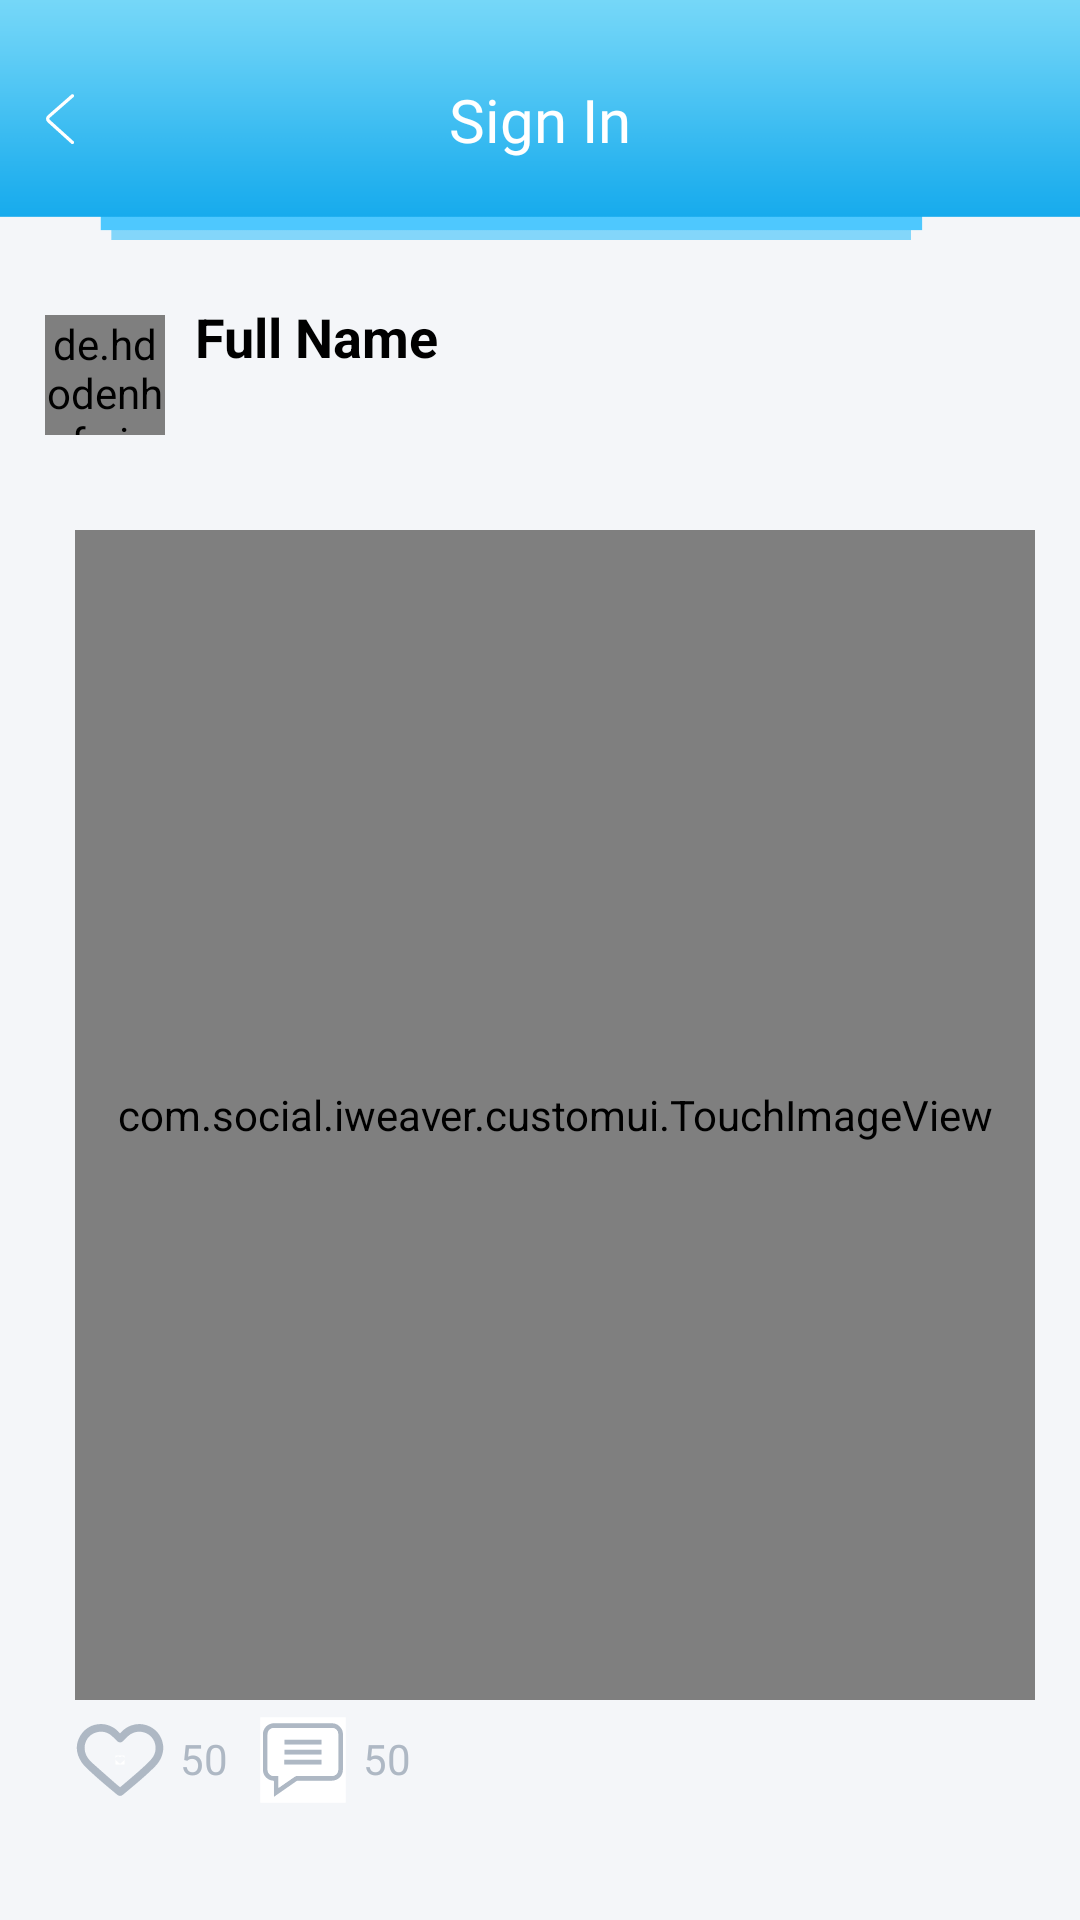

Point at icon controls on the screen. Image size 1080×1920, points as (x=x, y=y).
back: (x=60, y=122)
comment: (x=303, y=1760)
heart: (x=120, y=1760)
